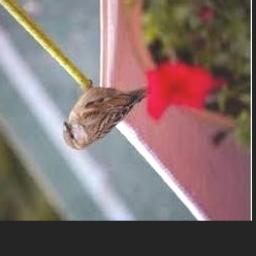Sparrow: (62, 79, 149, 151)
